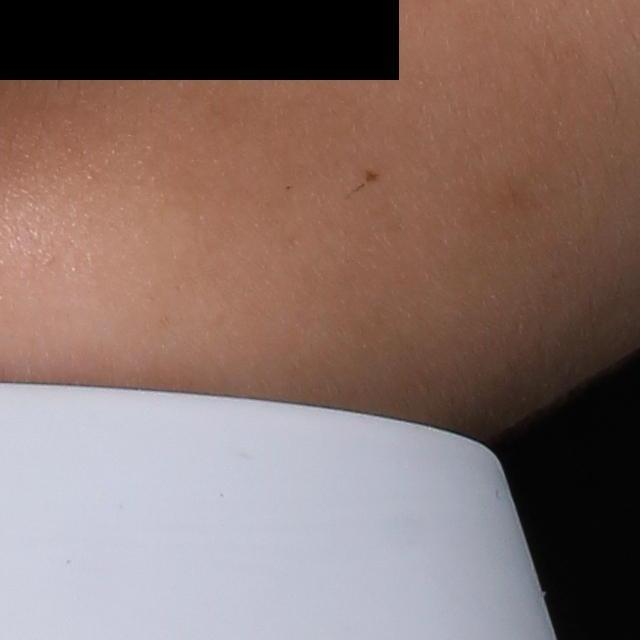nevus: (362, 168, 385, 188)
